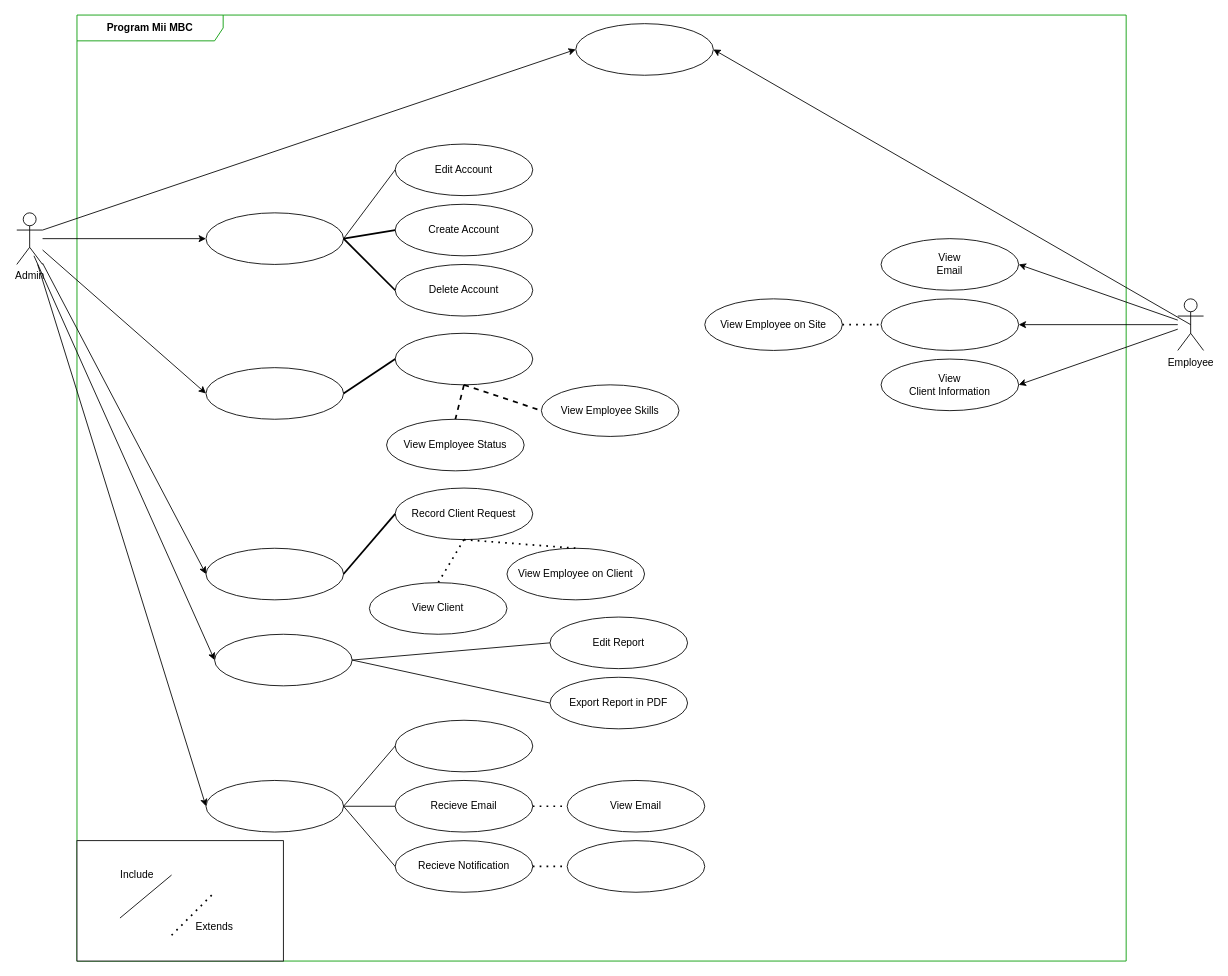
Some shapes in this 1228 by 976 pixel diagram are drawn without their labels. Here are the shapes that lost their labels. From the top down, the box of each, then its label:
(575, 23, 713, 75): Login
(205, 212, 344, 264): Manage Account
(880, 298, 1019, 350): View Employee Information
(394, 332, 533, 385): Select Compatible Employee to Site
(205, 367, 344, 419): Manage Employee
(205, 547, 344, 600): Manage Client
(214, 633, 352, 686): Manage Report
(394, 719, 533, 772): Send Email
(205, 780, 344, 832): Manage Email
(566, 840, 705, 892): View Notification
